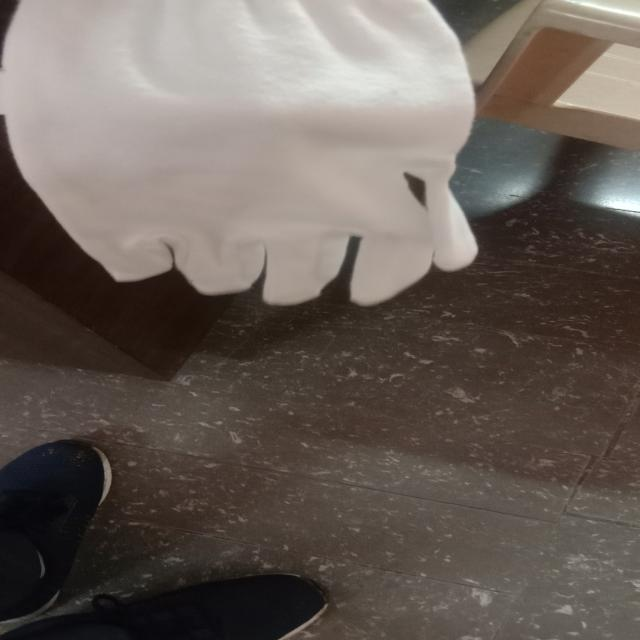glove_hand: (2, 2, 490, 314)
